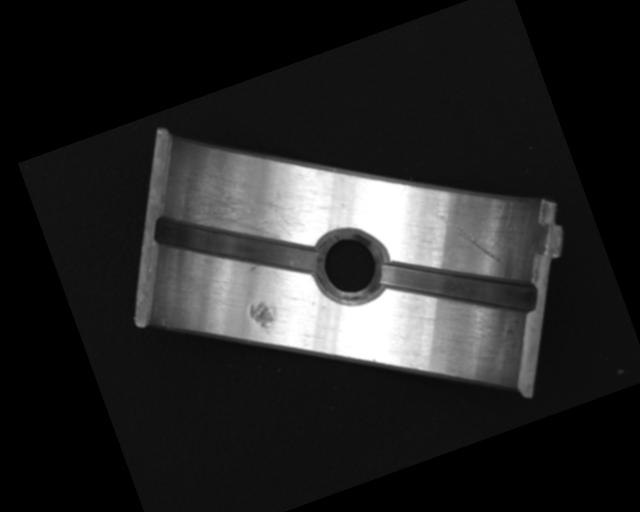bruise: (245, 297, 281, 339)
gap: (148, 171, 323, 319), (376, 219, 541, 356)
hole: (305, 220, 394, 315)
nick: (434, 196, 504, 280)
scratch: (171, 140, 308, 272)
